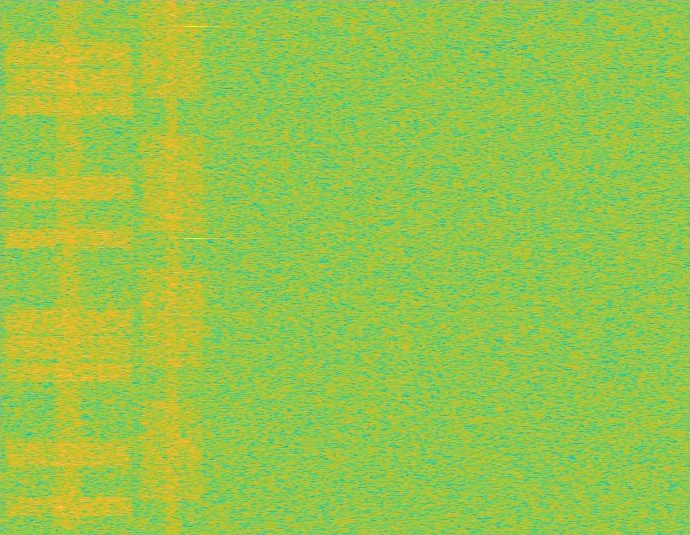5G: (138, 0, 207, 534)
DSSS: (53, 0, 85, 534), (165, 0, 180, 534)
LTE: (0, 0, 138, 534)
Radar: (189, 0, 202, 534)
